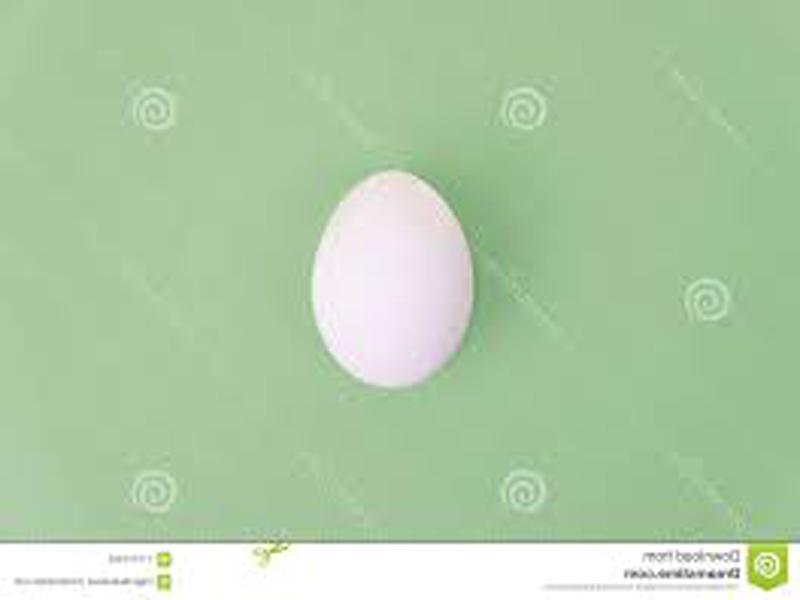Eggs: (314, 173, 475, 386)
